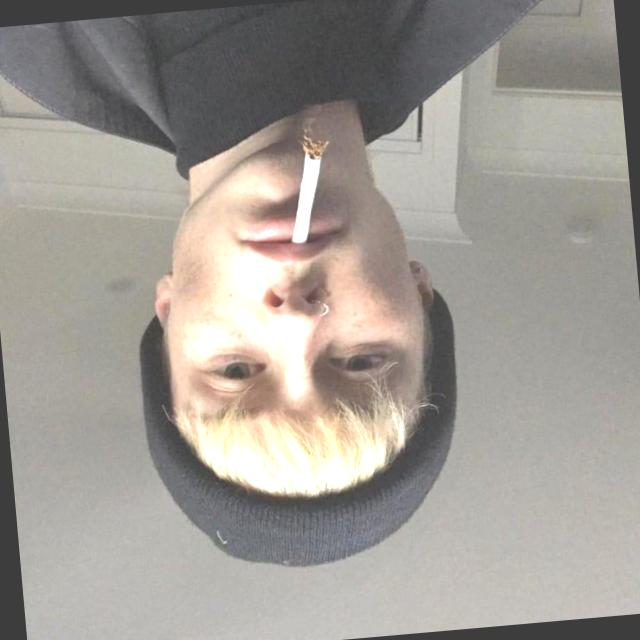cigarette: (269, 113, 353, 260)
